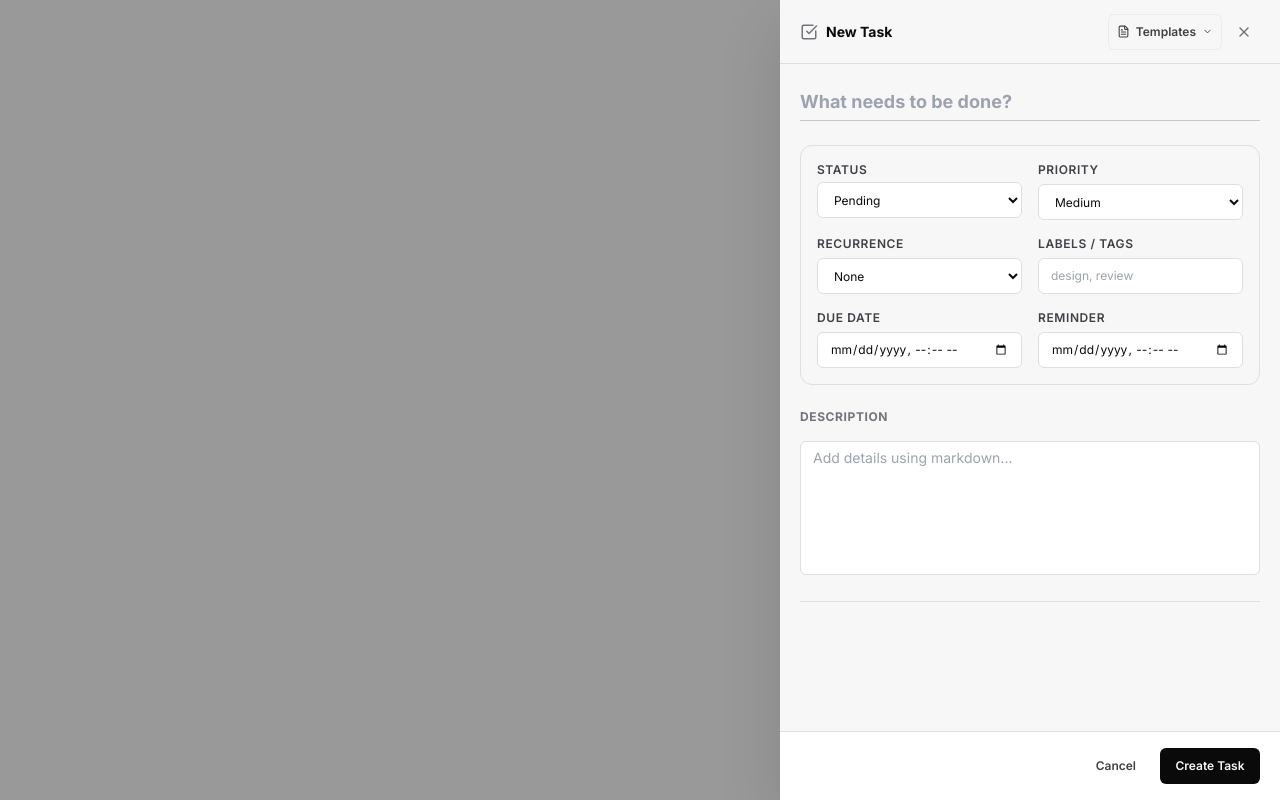
Task Management Component Testing › Task Detail Drawer (Creation & Editing Lifecycle) › Task creation: populates template title and description
Click the button "Templates".
click(1165, 32)  # box [1108, 14, 1222, 50]
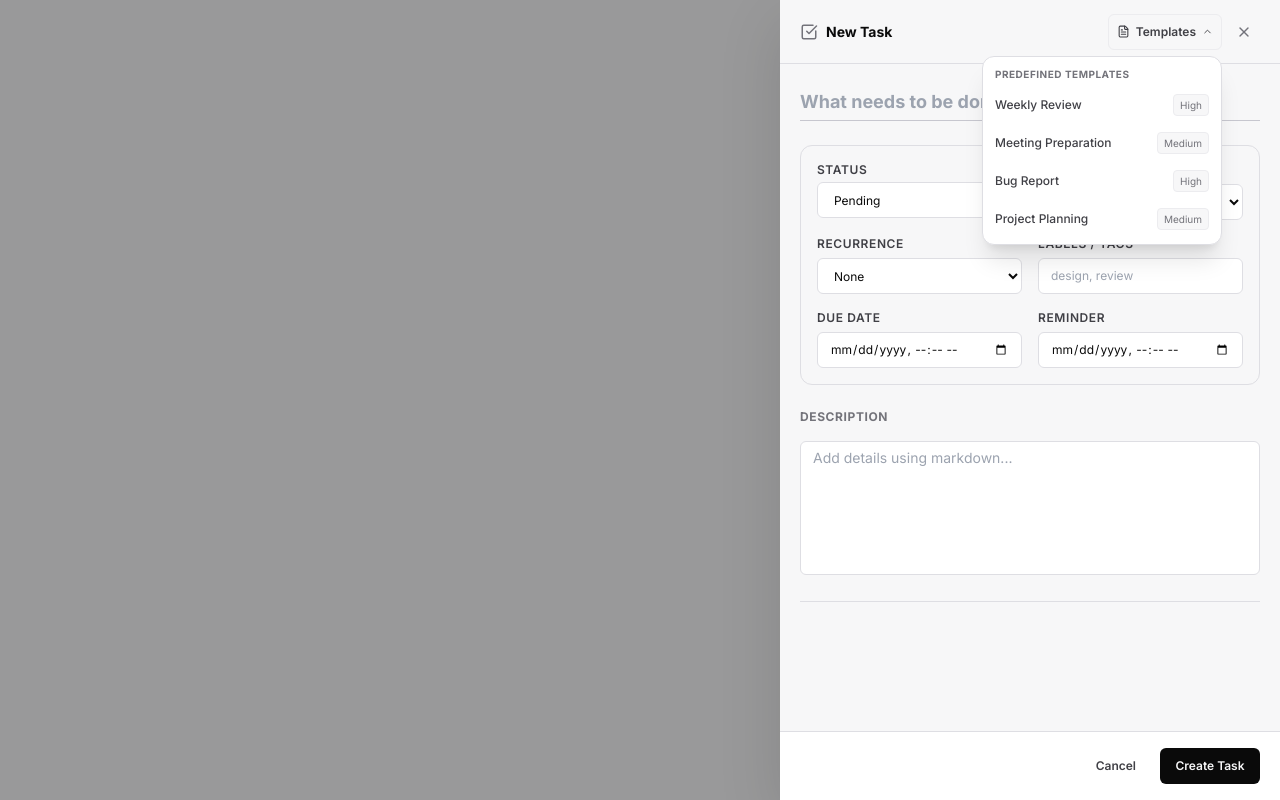
# Select Bug Report template
Click the menu item "Bug Report high".
click(1102, 180)  # box [983, 162, 1221, 200]
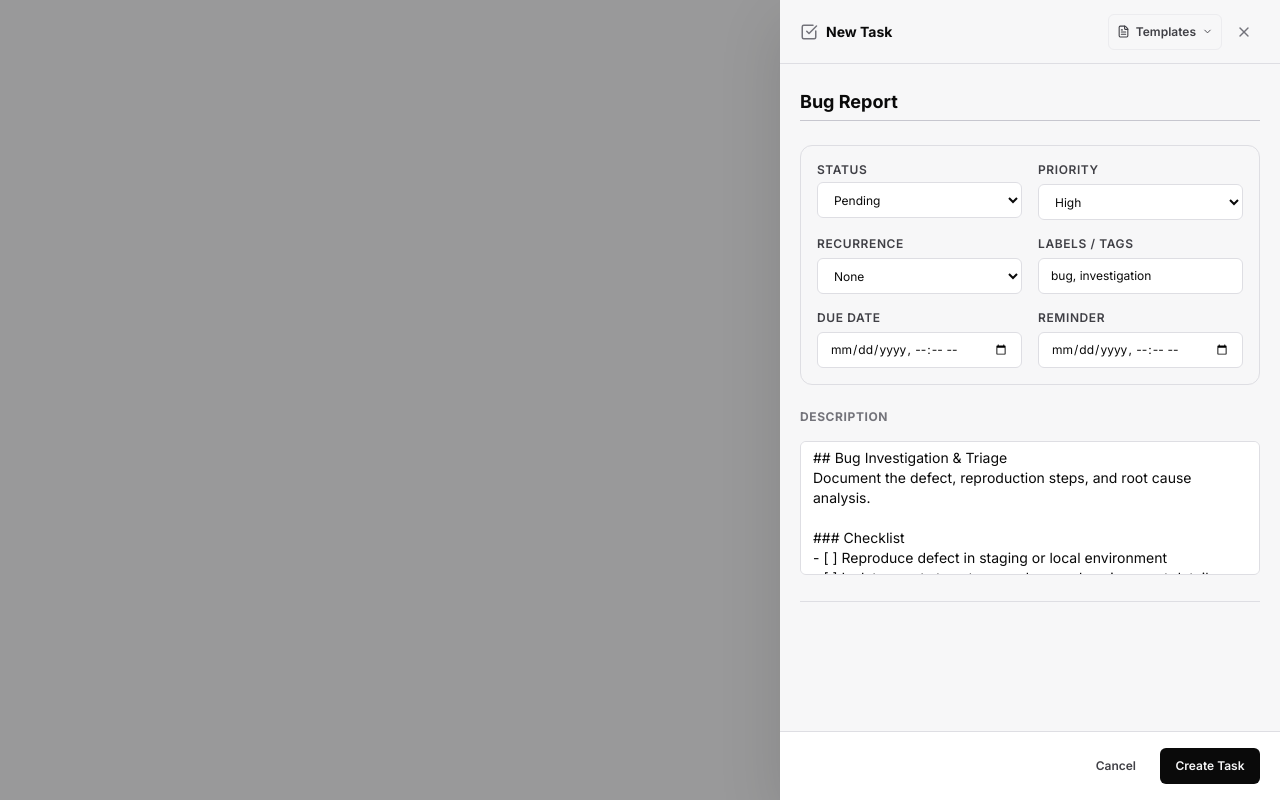
Expected: the field with placeholder "What needs to be done?" holds "Bug Report", [800, 84, 1260, 121]
